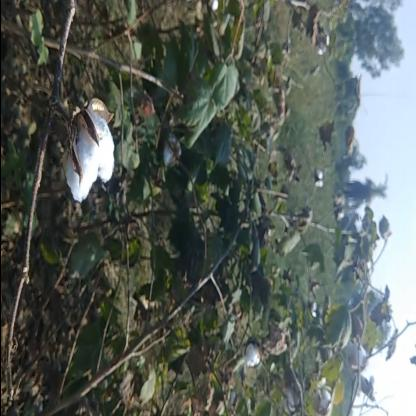cotton_ready: (40, 67, 124, 227)
